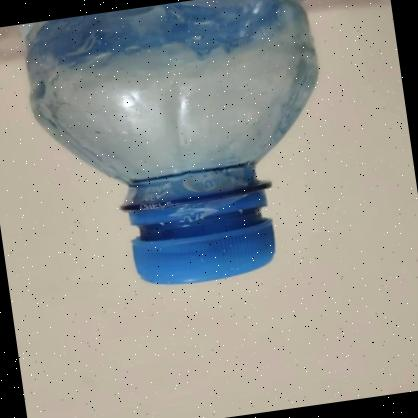bottle: (14, 0, 340, 313)
cap: (107, 164, 296, 296)
